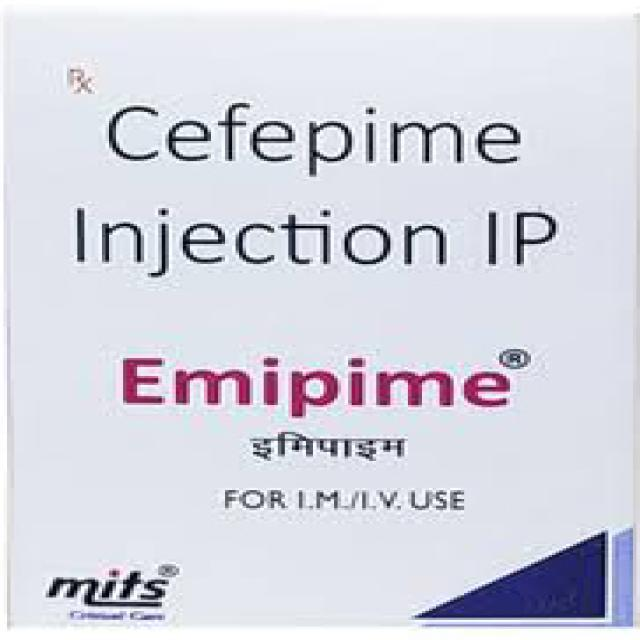drug-name: (118, 353, 510, 420)
